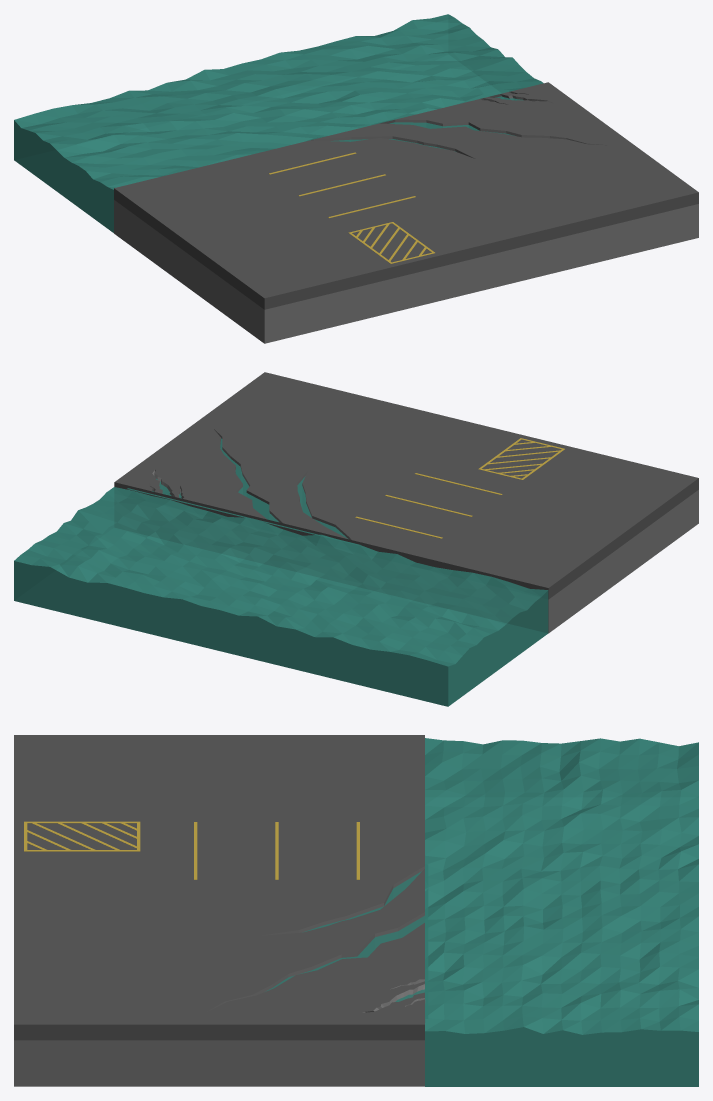
3 renders of one model, top to bottom at view 1: azimuth 30°, elevation 25°; view 2: azimuth 150°, elevation 25°; view 3: azimuth 270°, elevation 25°, orthographic. The views are drawn at different scales.
Parts seen in each view (by area): view 1: Base; view 2: Base; view 3: Base.
Part boxes in pixels (x1=…): Base: x1=14, y1=14, x2=698, y2=343; Base: x1=14, y1=372, x2=698, y2=706; Base: x1=14, y1=735, x2=698, y2=1086.
Bounding box in the file's own units: 10005 × 1005 × 9998.
